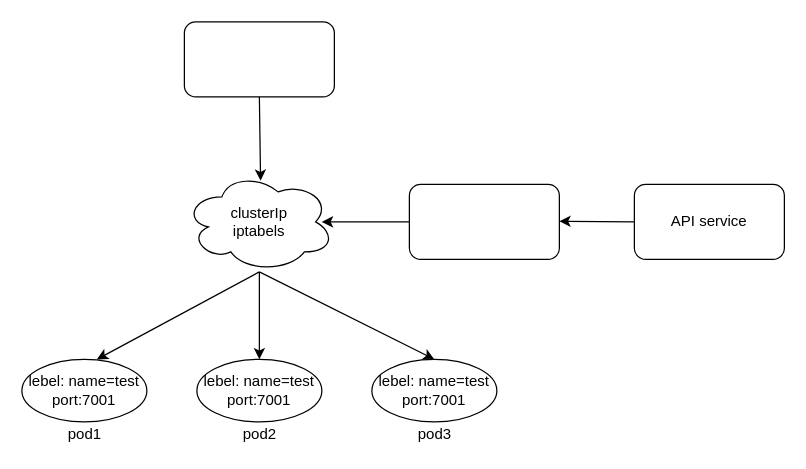
Image size: 806x469. Some labels were removed from this diagram. Each missing label, with the box of its shape:
kube-proxy: (408, 183, 559, 259)
客户端: (183, 21, 334, 97)
